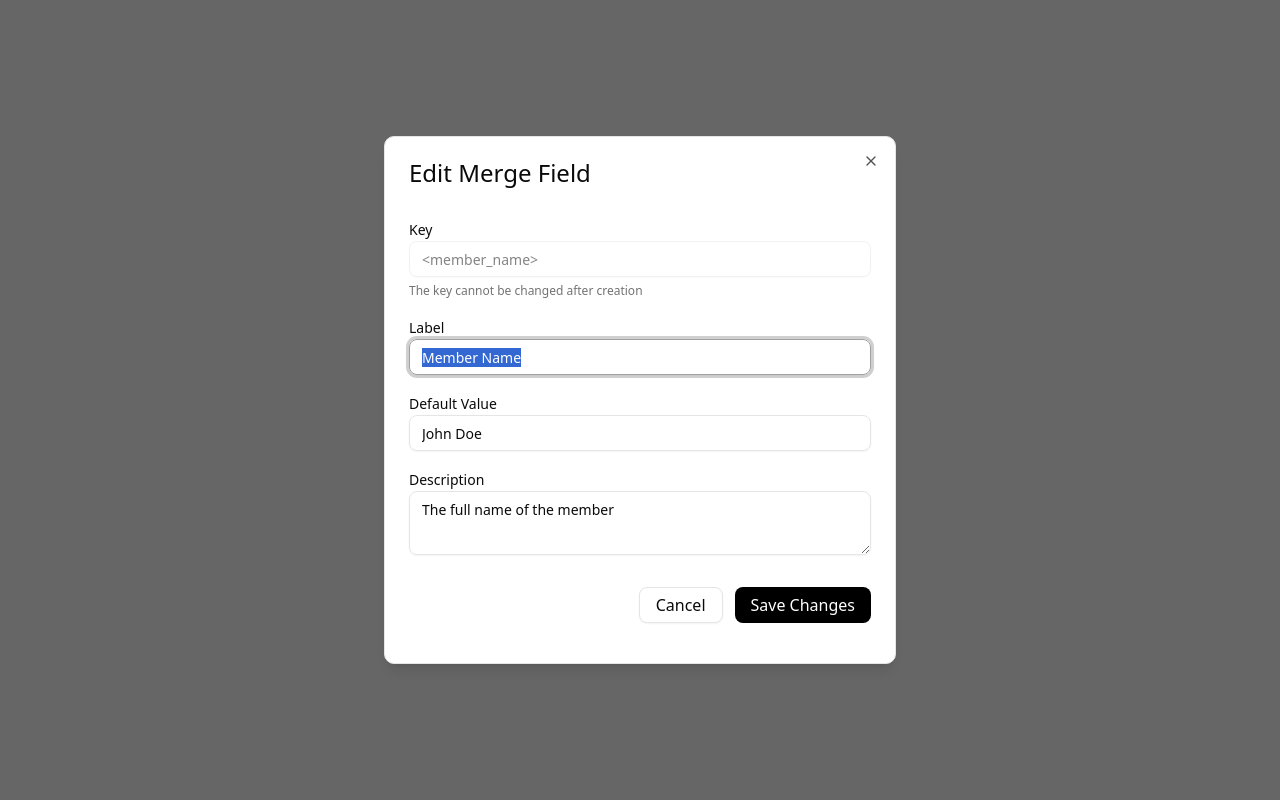
Test: EditMergeFieldModal › should disable save button when default value is empty
Clear the field below "Default Value" at (640, 433), box left=409, top=415, right=871, bottom=451
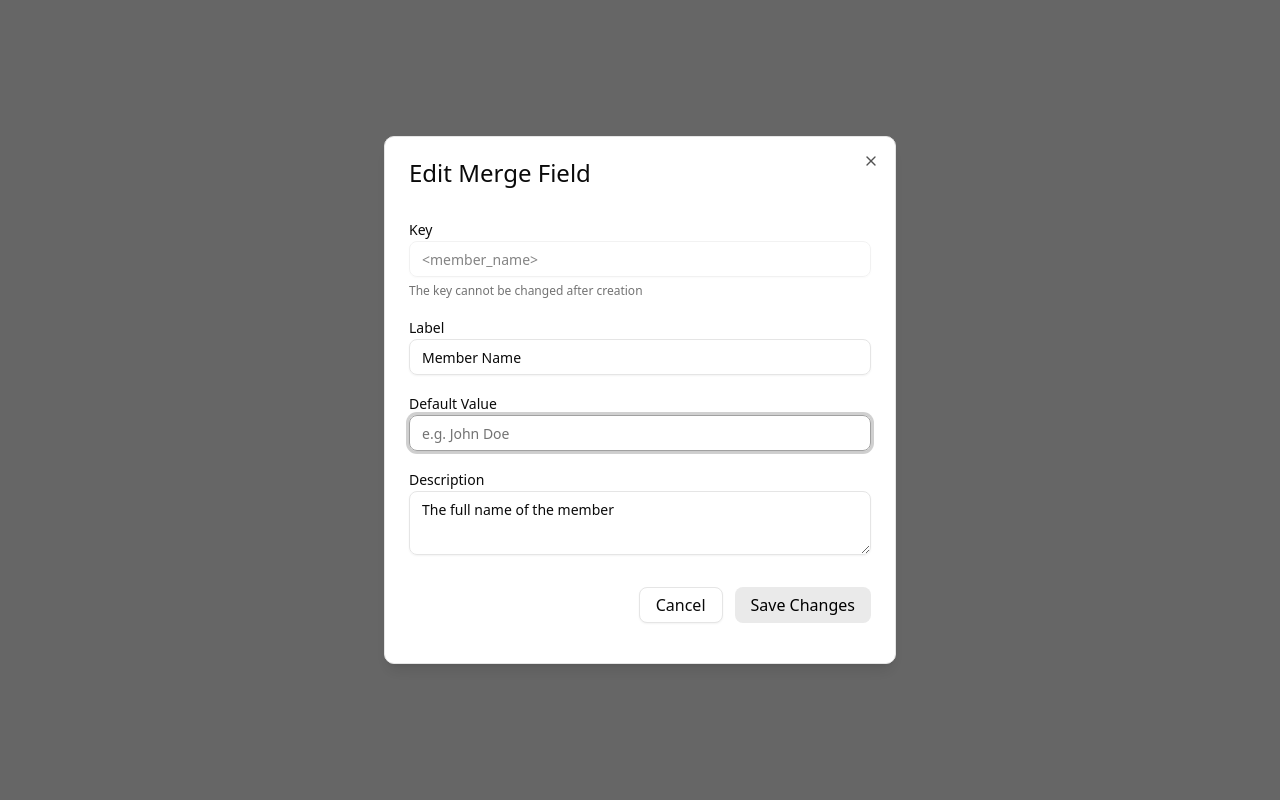
Now the button "Save Changes" is disabled, box left=734, top=587, right=871, bottom=623
